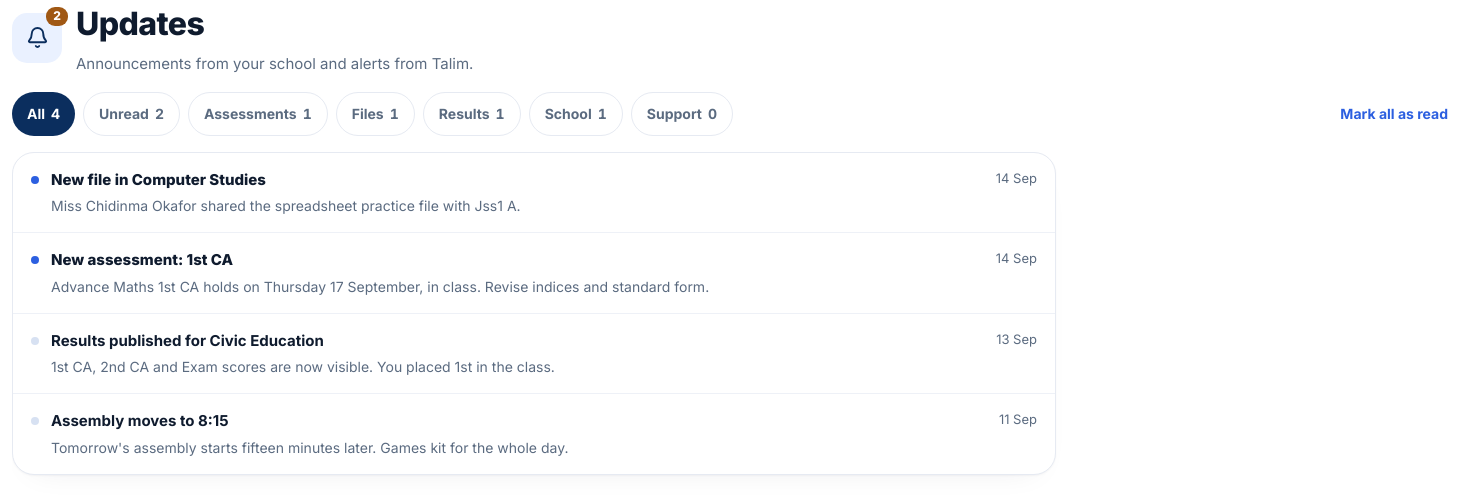
Test: Updates screen › opens an update, marks it read and links to where it points
What coordinates should you click on to do the following:
click the button "New file in Computer Studies"
I would click on:
 (158, 179)
Its box is 13,152 -> 1055,232.
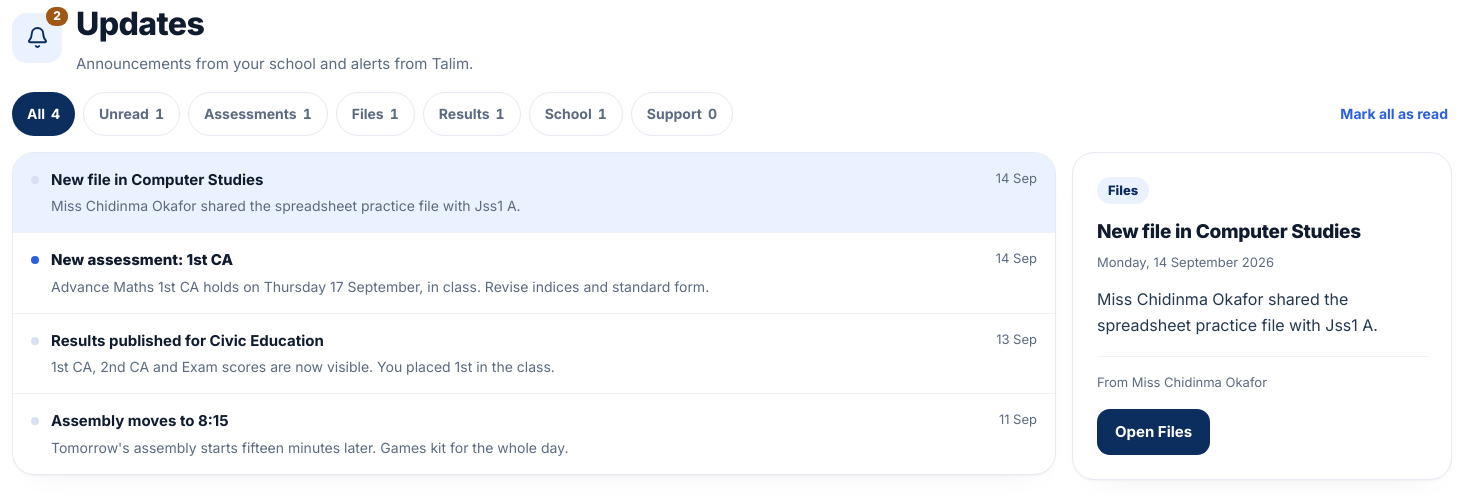
Now the text "Files" is shown, box 1097,176 -> 1149,204
Now the text "Miss Chidinma Okafor shared the spreadsheet practice file with Jss1 A." below "Monday, 14 September 2026" is shown, box 1097,289 -> 1378,335
Now the text "From Miss Chidinma Okafor" is shown, box 1097,356 -> 1427,392
